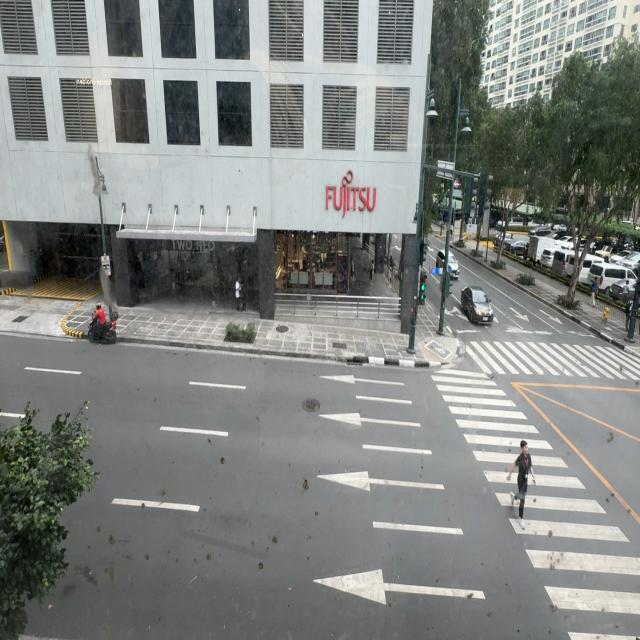crossing: (502, 415, 540, 525)
